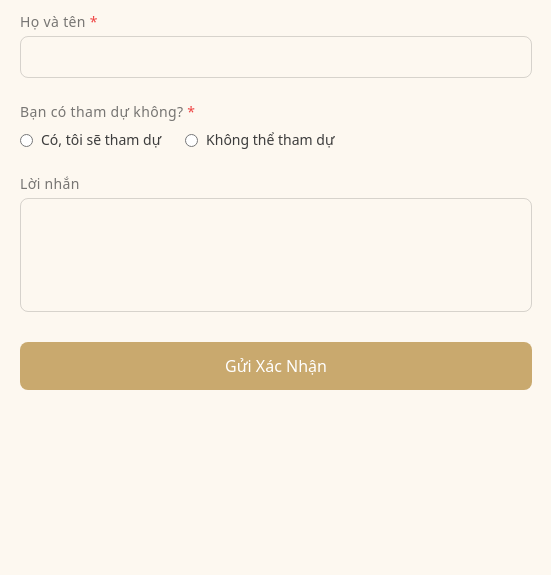
Test: RSVPForm › shows error message when API fails
Step 1. Type "Nguyễn Văn A" into the field labelled "Họ và tên *" → (276, 57), box 20,36 -> 532,78
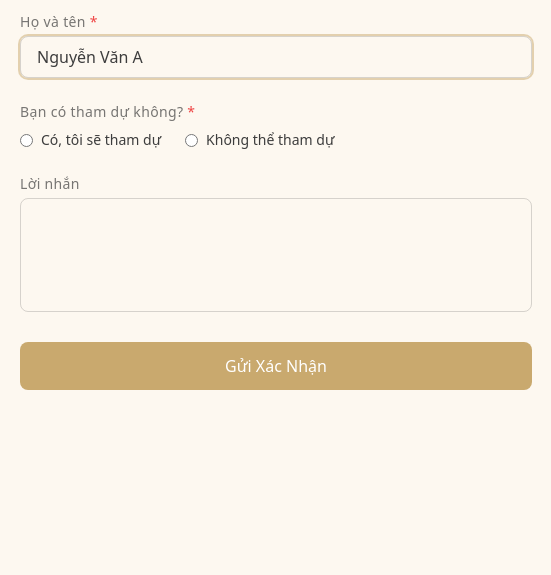
Step 2. Click the radio button labelled "Có, tôi sẽ tham dự" → (26, 140), box 20,134 -> 33,146
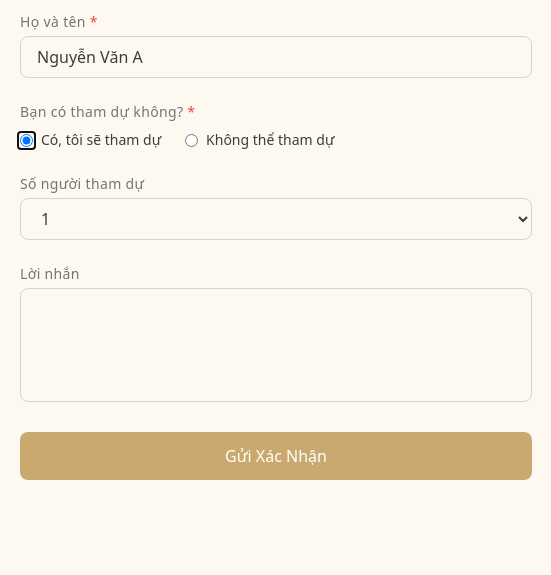
Step 3. Click the button "Gửi Xác Nhận" → (276, 456), box 20,432 -> 532,480
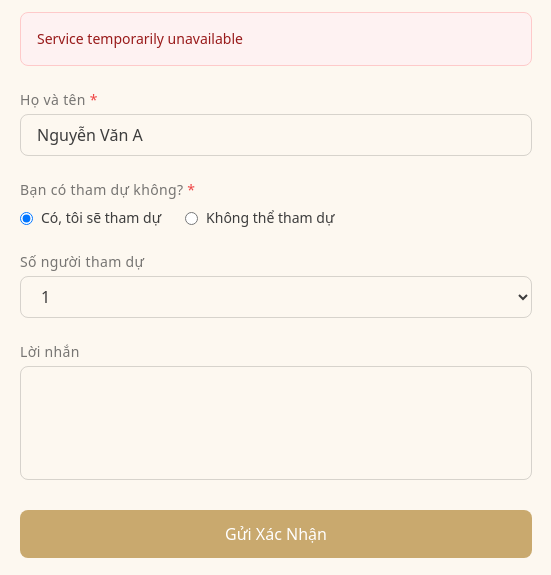
Result: the text "Service temporarily unavailable" is shown at 20,12 -> 532,66
